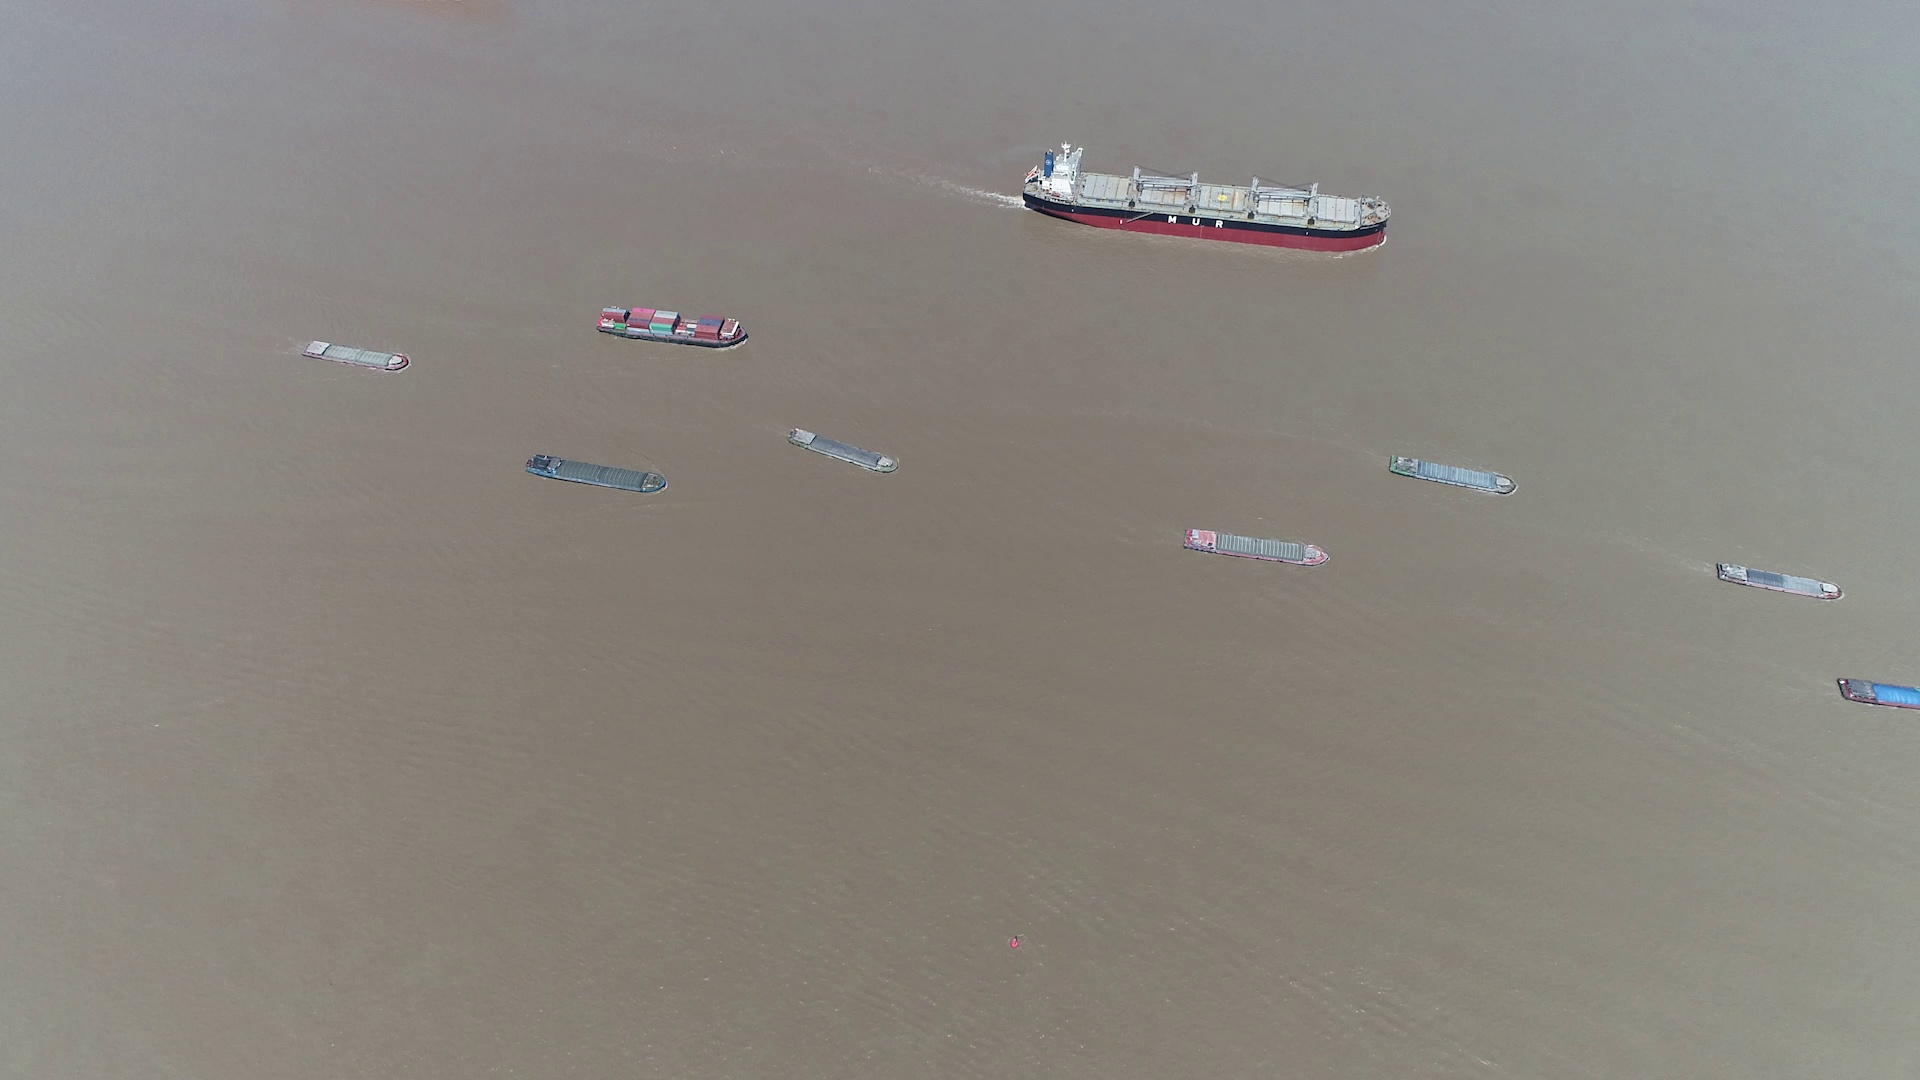ship: (1023, 149, 1390, 249), (597, 305, 752, 348), (525, 454, 667, 496), (1183, 527, 1329, 566), (790, 429, 901, 476), (1389, 455, 1516, 496), (1714, 560, 1842, 601), (301, 338, 410, 373), (1836, 676, 1920, 713)
